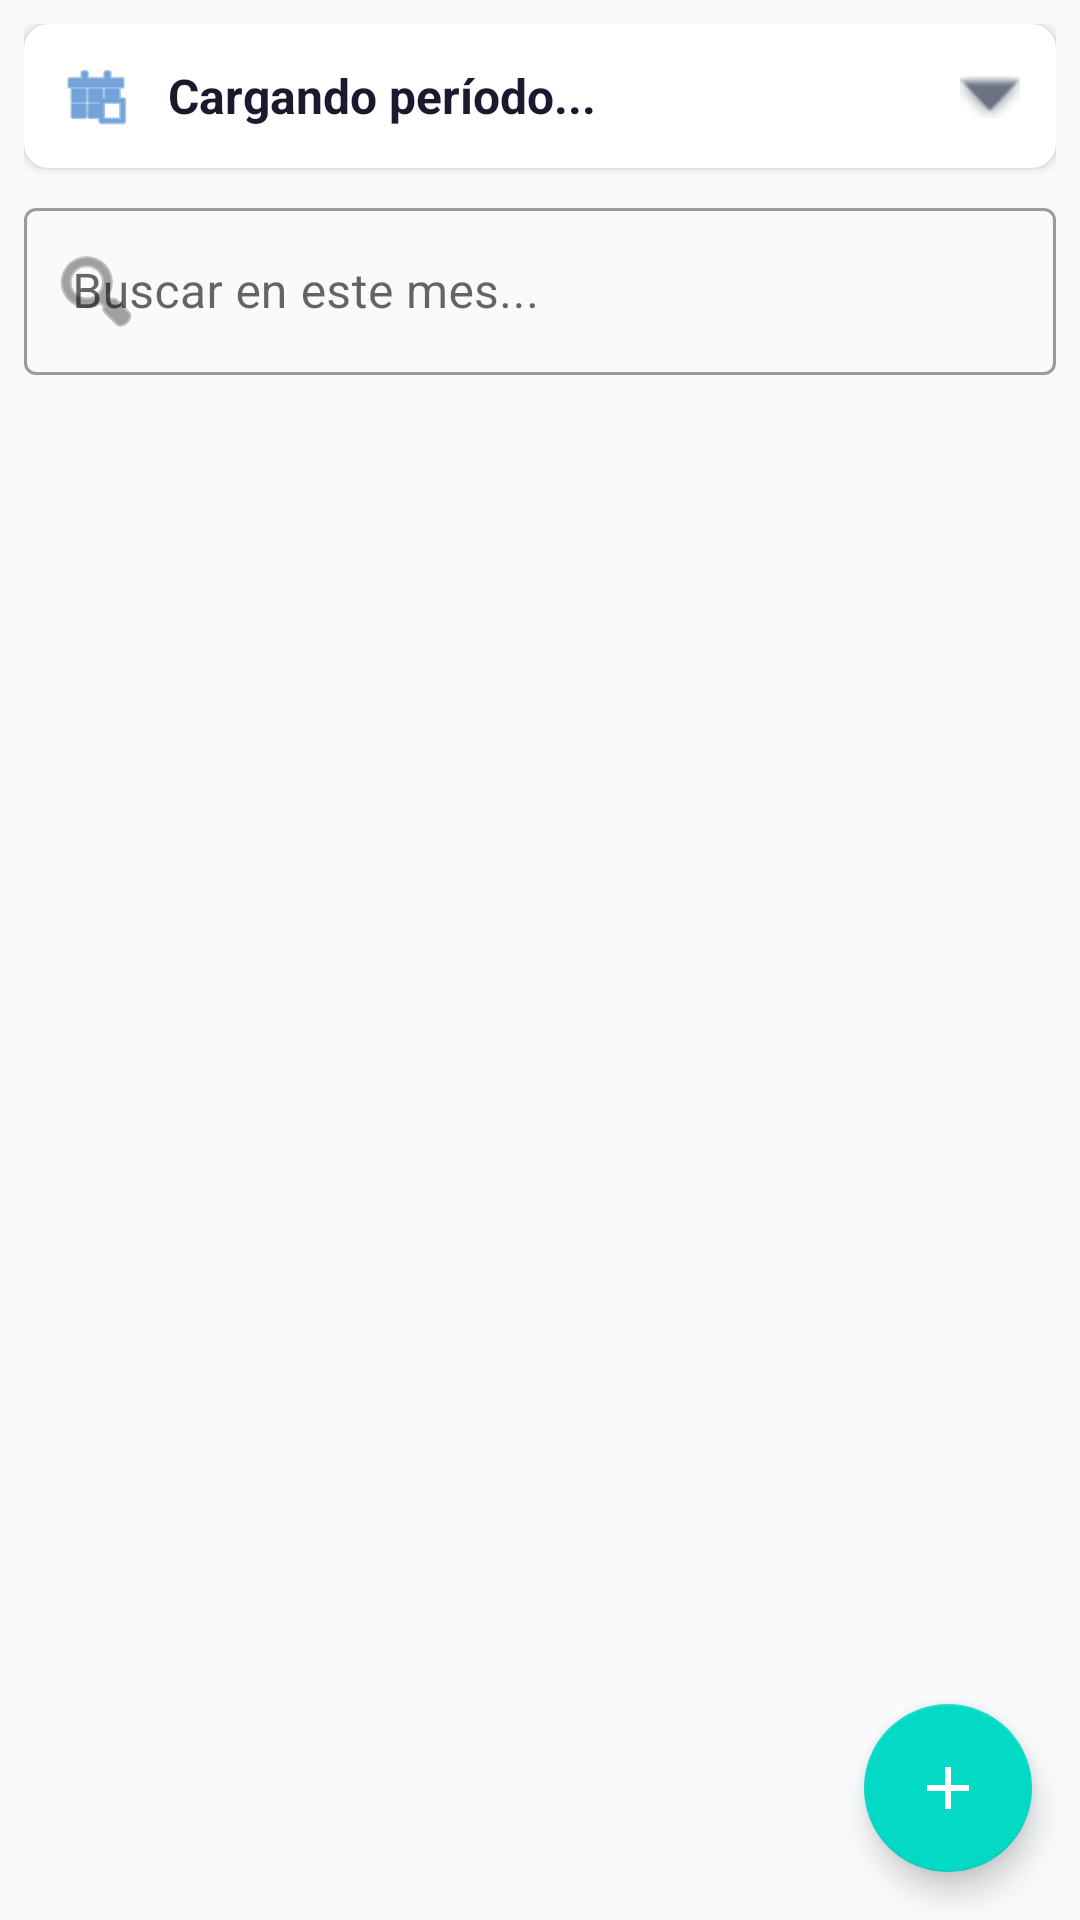

Icon bounding boxes for this 1080x1920 phone screenshot, format Rect(x1, y1, x2, y2):
add: Rect(864, 1704, 1032, 1872)
arrow down float: Rect(960, 77, 1020, 114)
today: Rect(67, 70, 126, 125)
